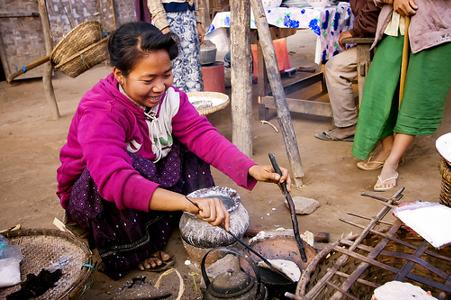person: (59, 23, 295, 277)
